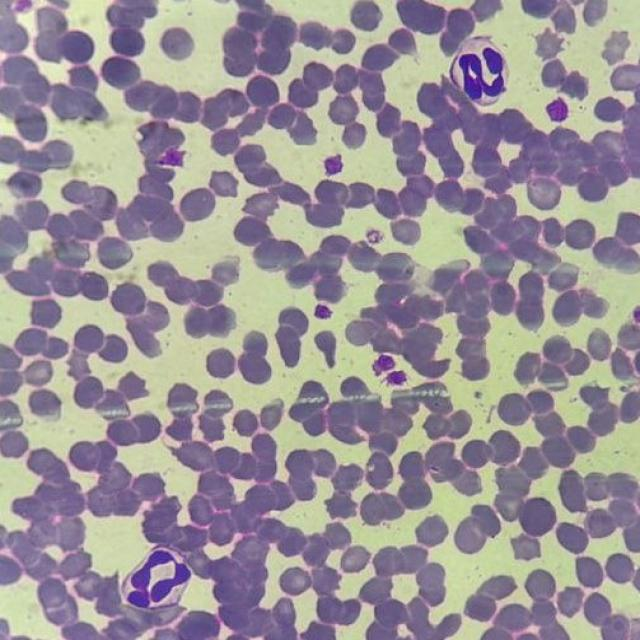Neutrofilo: (117, 543, 199, 611), (447, 32, 515, 111)
